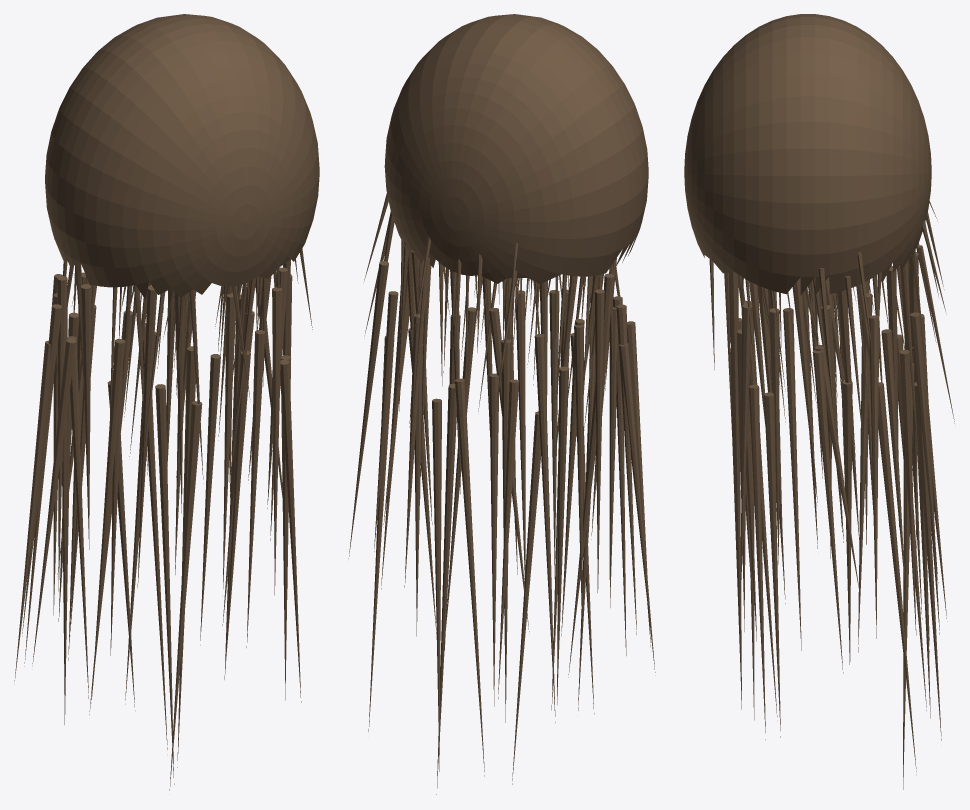
File: locs.glb
3 renders of one model, left to right at view 1: azimuth 30°, elevation 25°; view 2: azimuth 150°, elevation 25°; view 3: azimuth 270°, elevation 25°, orthographic. The views are drawn at different scales.
Parts seen in each view (by area): view 1: part_000, part_107, part_103, part_108, part_098, part_111, part_114, part_099, part_118, part_097, part_125, part_100 (+28 smaller); view 2: part_000, part_126, part_120, part_125, part_127, part_118, part_123, part_119, part_114, part_100, part_121, part_115 (+32 smaller); view 3: part_000, part_133, part_098, part_110, part_096, part_092, part_132, part_118, part_129, part_097, part_127, part_128 (+29 smaller).
Boxes of the visible parts, x1=… form: part_000: x1=45, y1=14, x2=319, y2=299; part_107: x1=155, y1=384, x2=174, y2=784; part_103: x1=169, y1=401, x2=202, y2=790; part_108: x1=91, y1=339, x2=125, y2=703; part_098: x1=280, y1=359, x2=301, y2=702; part_111: x1=32, y1=338, x2=76, y2=666; part_114: x1=14, y1=340, x2=50, y2=681; part_099: x1=246, y1=330, x2=265, y2=647; part_118: x1=67, y1=336, x2=88, y2=698; part_097: x1=272, y1=287, x2=282, y2=595; part_125: x1=142, y1=323, x2=167, y2=749; part_100: x1=225, y1=350, x2=250, y2=668; part_000: x1=384, y1=14, x2=648, y2=283; part_126: x1=455, y1=378, x2=484, y2=776; part_120: x1=534, y1=334, x2=555, y2=722; part_125: x1=436, y1=384, x2=457, y2=794; part_127: x1=432, y1=398, x2=441, y2=771; part_118: x1=557, y1=366, x2=569, y2=704; part_123: x1=489, y1=373, x2=498, y2=706; part_119: x1=512, y1=411, x2=540, y2=784; part_114: x1=618, y1=343, x2=655, y2=672; part_100: x1=516, y1=290, x2=525, y2=579; part_121: x1=498, y1=379, x2=519, y2=699; part_115: x1=595, y1=289, x2=604, y2=592; part_000: x1=684, y1=14, x2=931, y2=295; part_133: x1=878, y1=382, x2=916, y2=774; part_098: x1=748, y1=384, x2=765, y2=739; part_110: x1=783, y1=308, x2=801, y2=650; part_096: x1=764, y1=392, x2=780, y2=737; part_092: x1=812, y1=350, x2=843, y2=673; part_132: x1=869, y1=315, x2=879, y2=638; part_118: x1=858, y1=293, x2=872, y2=652; part_129: x1=899, y1=349, x2=916, y2=635; part_097: x1=740, y1=303, x2=752, y2=595; part_127: x1=914, y1=382, x2=941, y2=740; part_128: x1=910, y1=312, x2=938, y2=583.
Bounding box in the file's own units: 0.2595 × 0.6391 × 0.2084.
